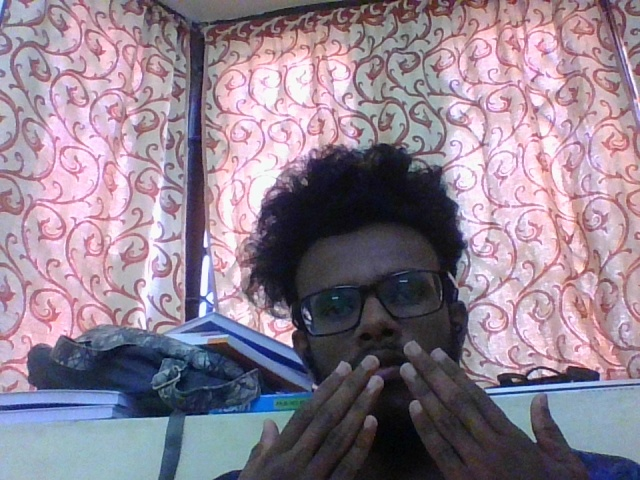thank: (238, 335, 590, 480)
